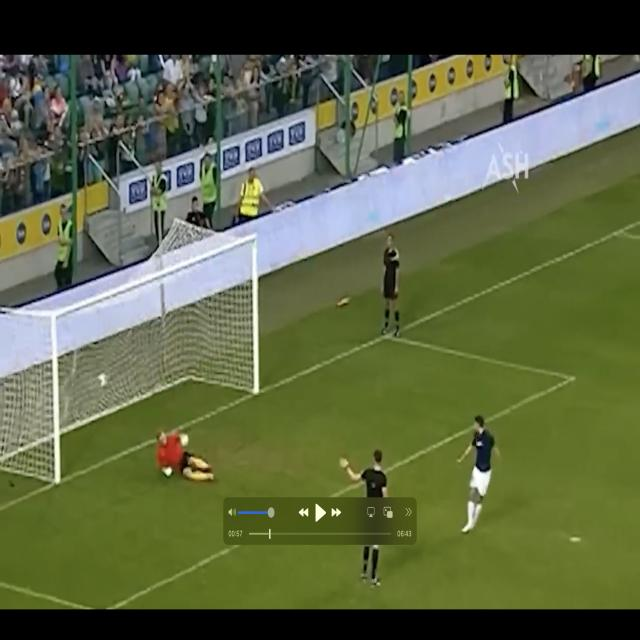right-top: (159, 238, 256, 276)
soccer-goal: (56, 236, 256, 480)
